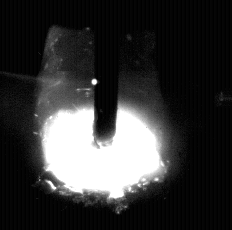arame: (95, 0, 119, 147)
poca: (41, 0, 169, 230)
